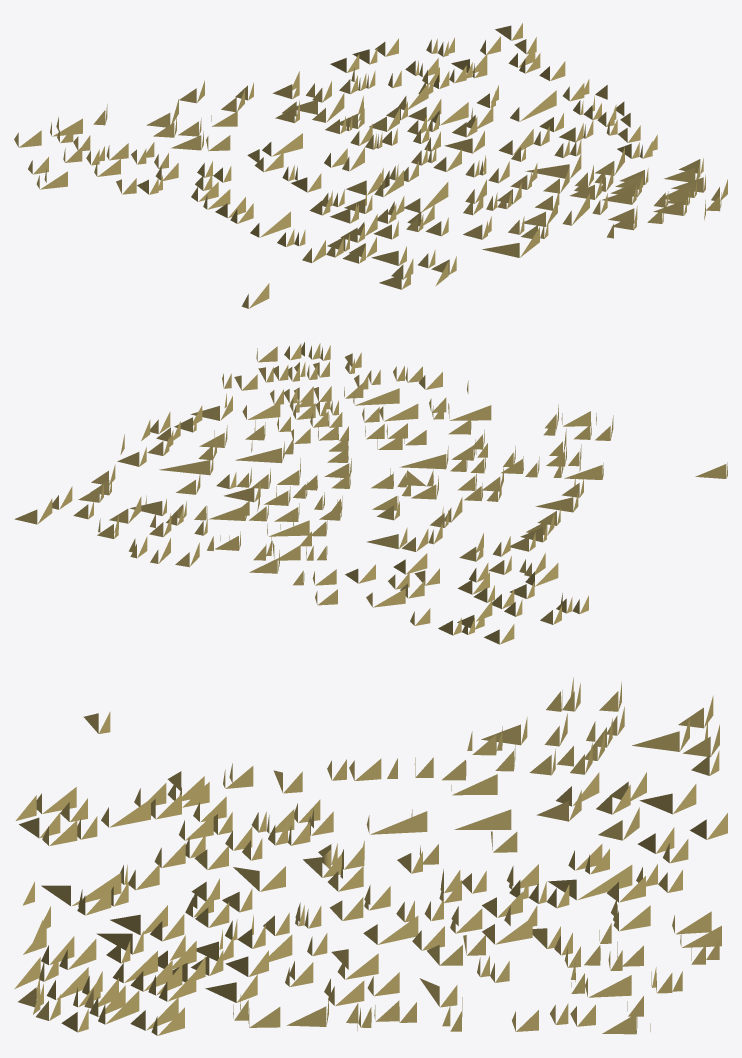
3 renders of one model, top to bottom at view 1: azimuth 30°, elevation 25°; view 2: azimuth 150°, elevation 25°; view 3: azimuth 270°, elevation 25°, orthographic. The views are drawn at different scales.
Size of the model in its own units: 269 by 7.5 by 232.
